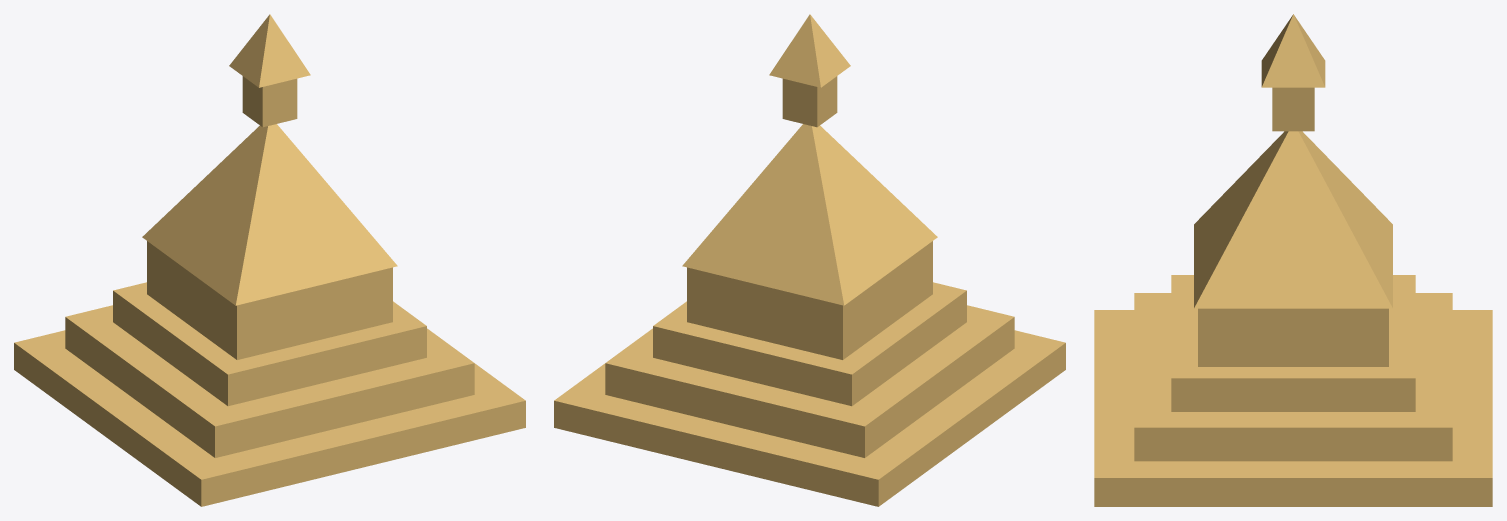
The model's file is demo_pagoda.glb.
The picture shows the model from 3 angles, left to right: view 1: azimuth 30°, elevation 25°; view 2: azimuth 150°, elevation 25°; view 3: azimuth 270°, elevation 25°; orthographic projection. The views are drawn at different scales.
Bounding box in the file's own units: 1.5 × 1.7 × 1.5.
